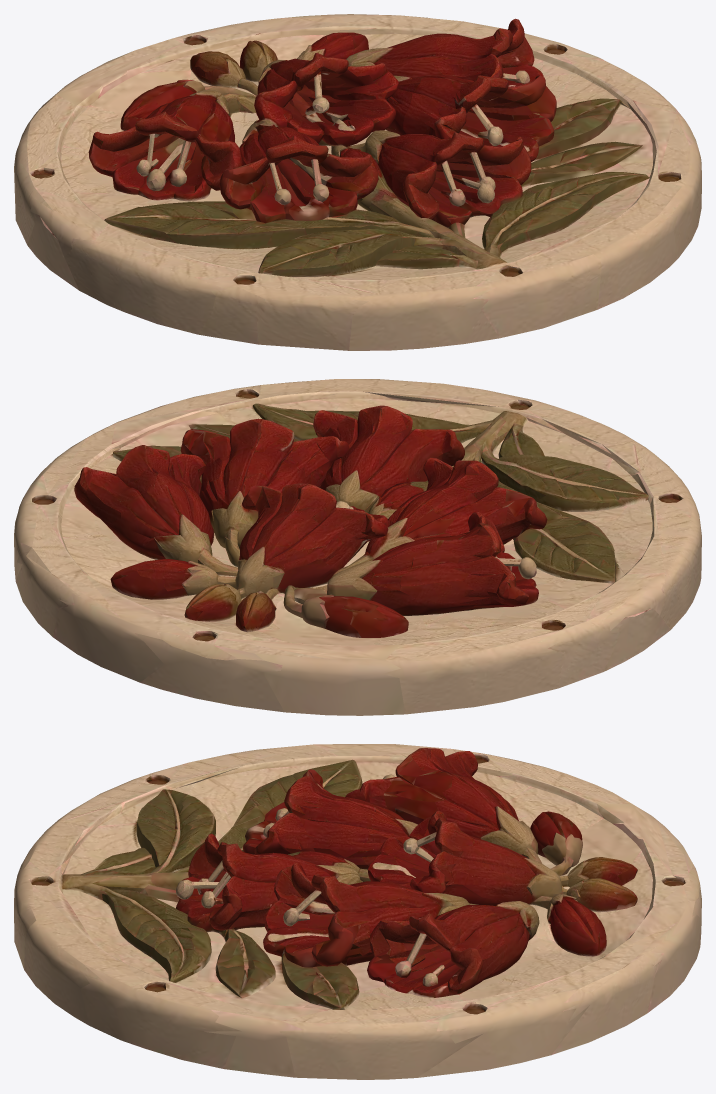
The picture shows the model from 3 angles, top to bottom: view 1: azimuth 30°, elevation 25°; view 2: azimuth 150°, elevation 25°; view 3: azimuth 270°, elevation 25°; orthographic projection.
Parts seen in each view (by area): view 1: Mesh_0; view 2: Mesh_0; view 3: Mesh_0.
Part boxes in pixels (<box>): Mesh_0: <box>14,14,701,350</box>; Mesh_0: <box>14,379,701,715</box>; Mesh_0: <box>14,744,701,1079</box>.
Bounding box in the file's own units: 1.9 × 0.3547 × 1.9.
Materials: 1 (1 with a texture image).
